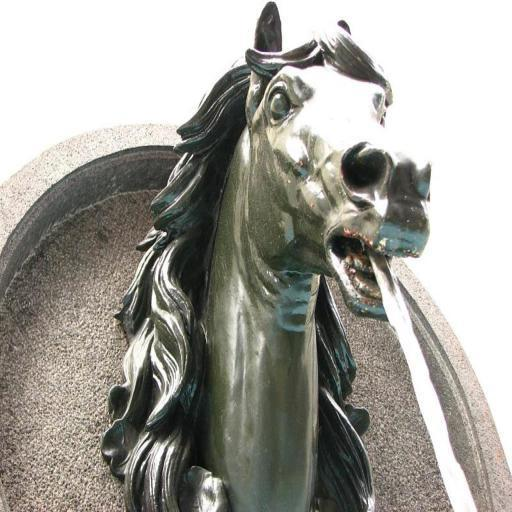horse: (100, 0, 434, 511)
